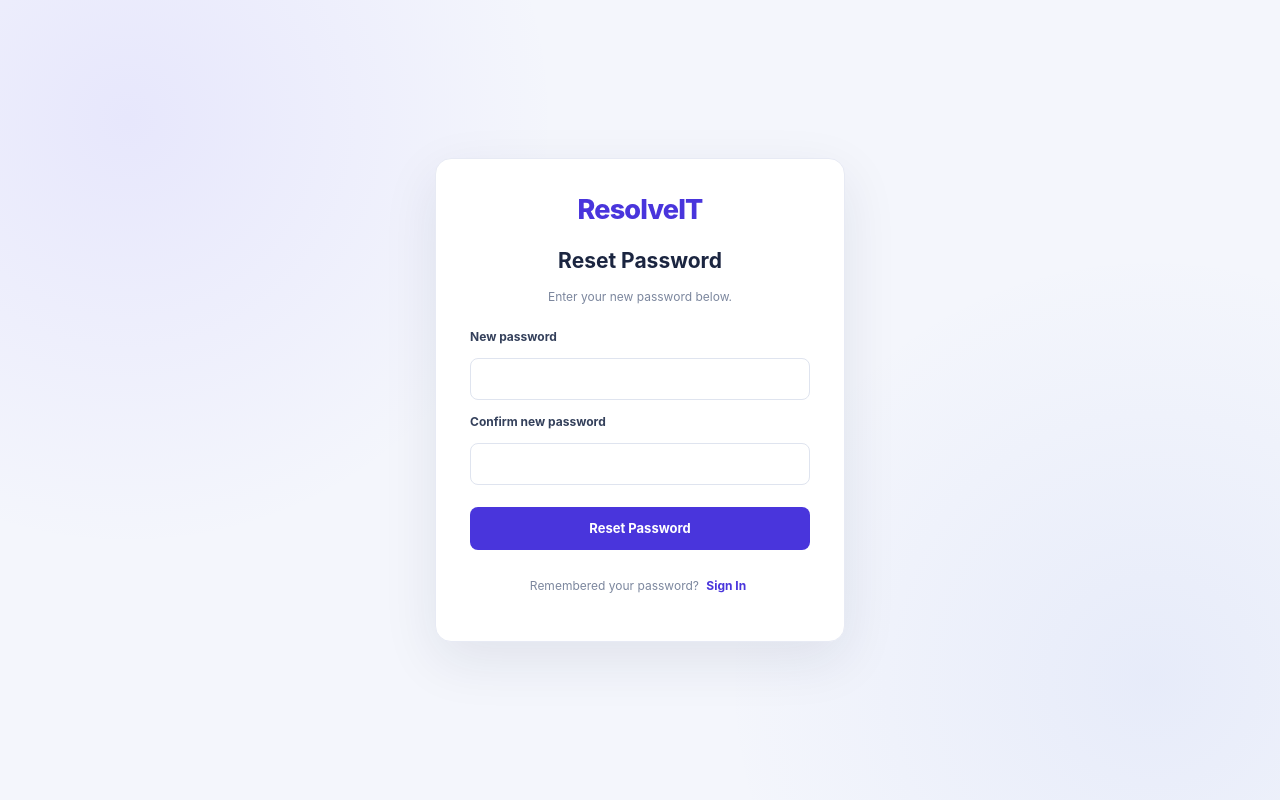
Scenario: Password Reset Workflows & Security › submits reset password, clears token from memory, and transitions to login
The width and height of the screenshot is (1280, 800).
In the password field labelled "New password": (640, 378) [470,358,810,400], type "ValidNewPass123!"
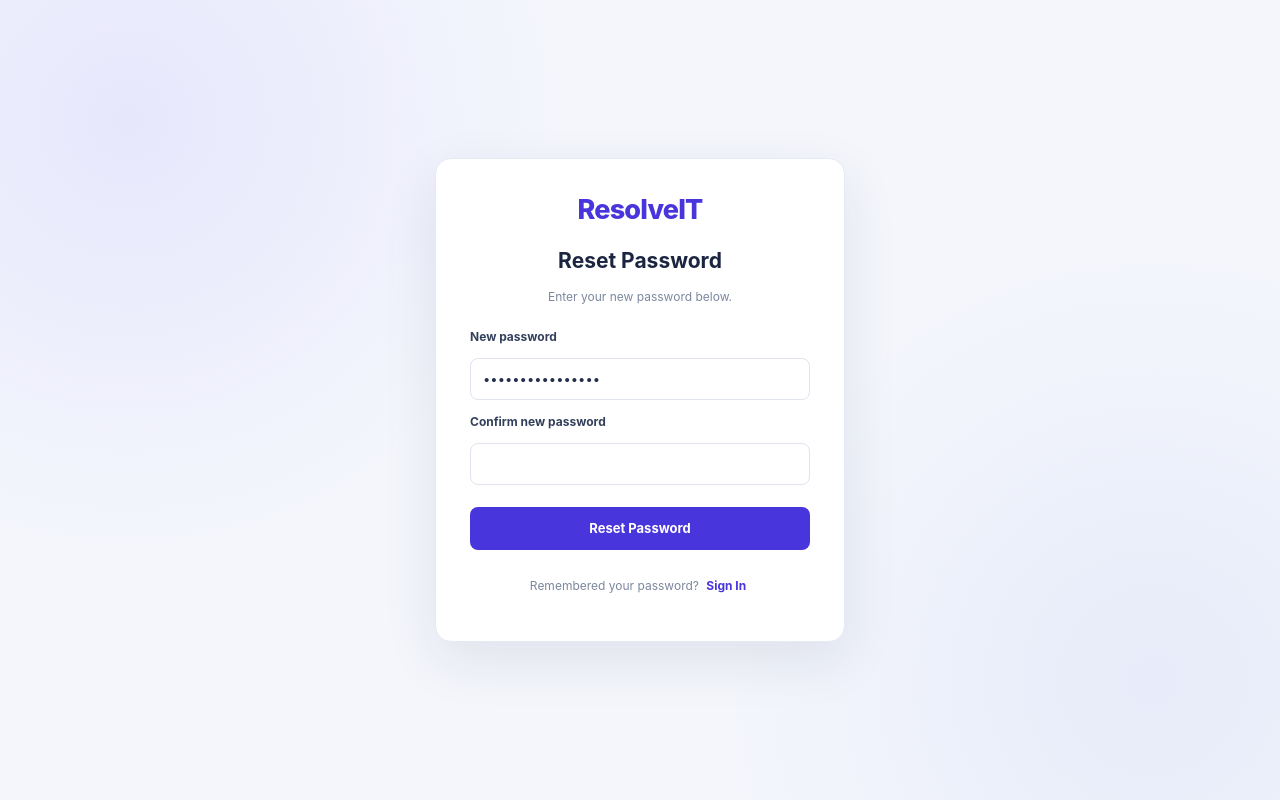
In the password field labelled "Confirm new password": (640, 464) [470,442,810,484], type "ValidNewPass123!"
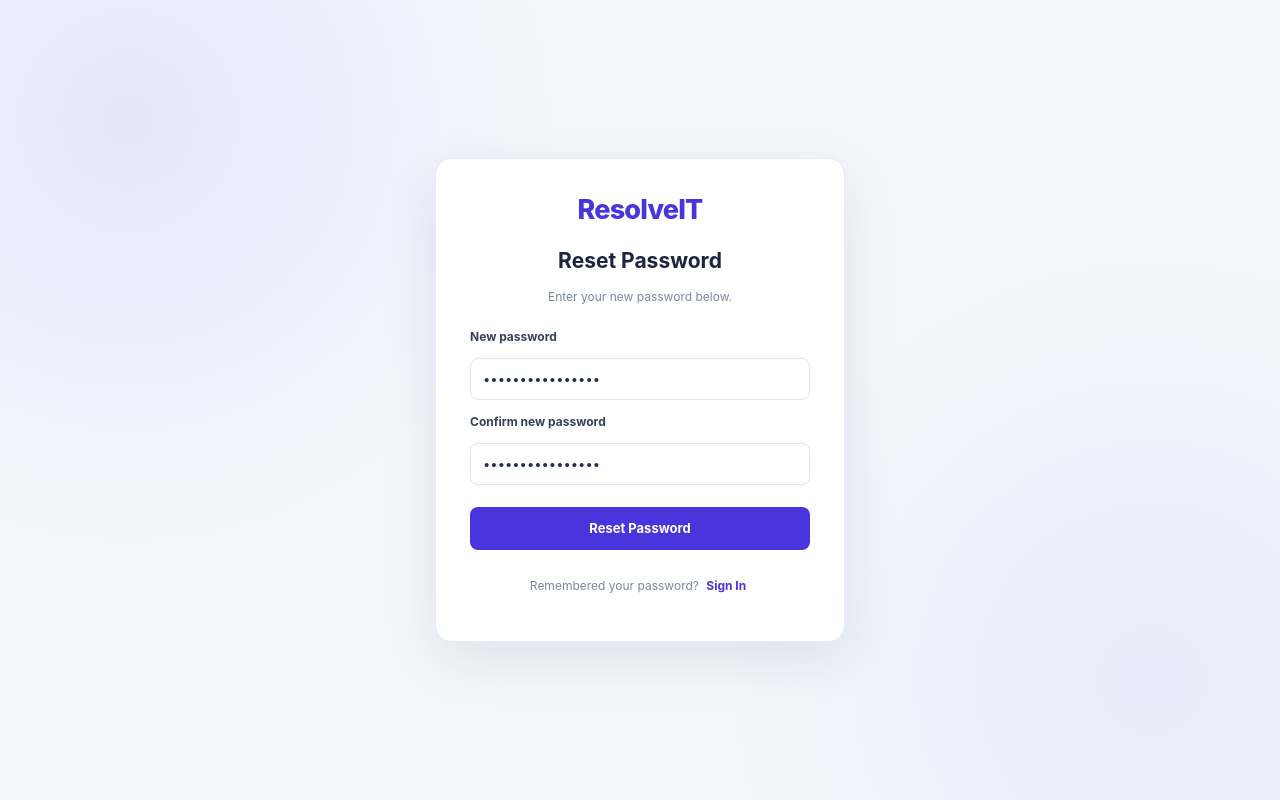
Click the button "Reset Password": click(640, 528) [470,506,810,550]
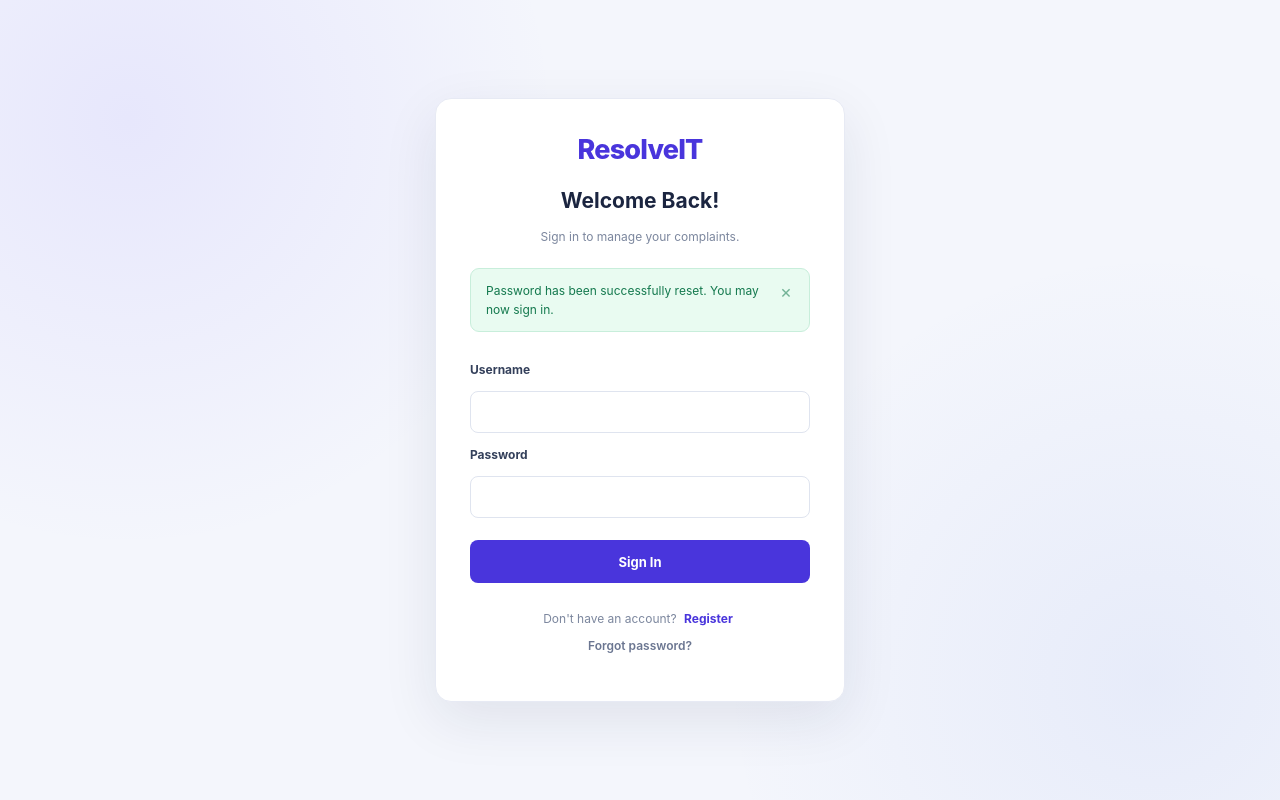
Expected: the text "Password has been successfully reset. You may now sign in." is shown, [486,281,768,319]
Expected: the heading "Welcome Back!" is shown, [561,188,719,212]
